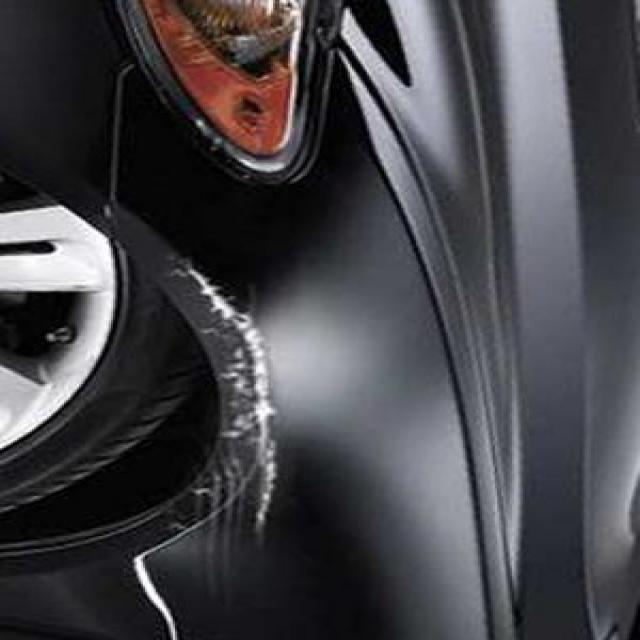scratch: (162, 242, 305, 572)
